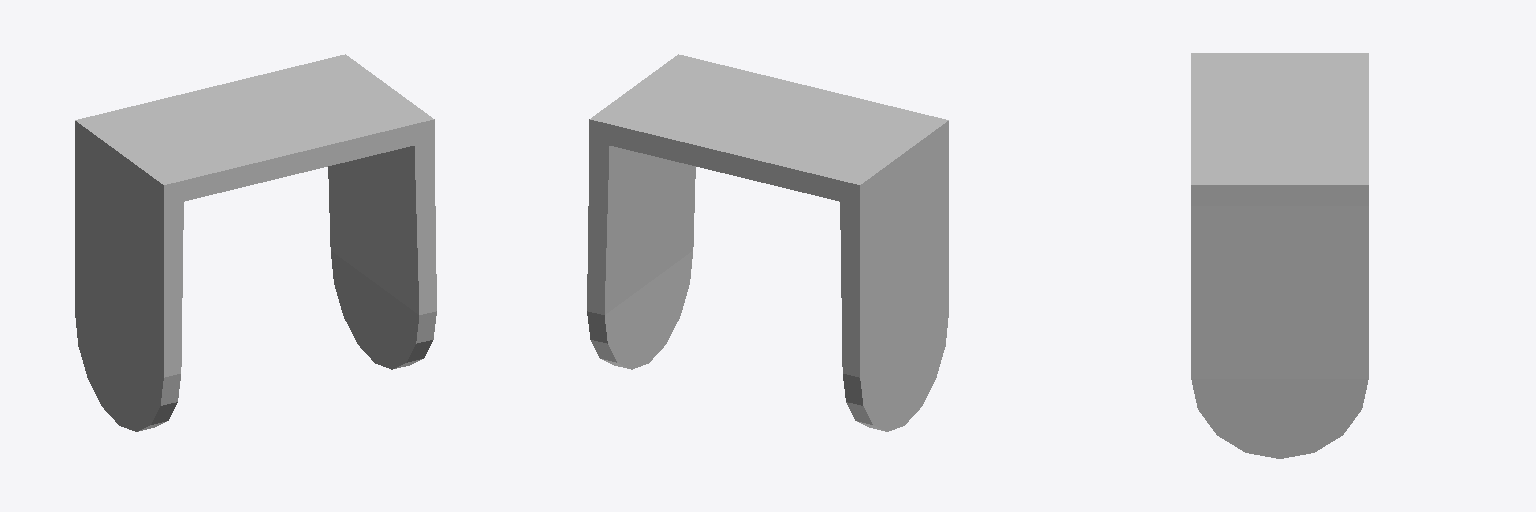
Rendered from rightArm3.obj.
3 renders of one model, left to right at view 1: azimuth 30°, elevation 25°; view 2: azimuth 150°, elevation 25°; view 3: azimuth 270°, elevation 25°, orthographic.
Parts seen in each view (by area): view 1: unnamed_object1; view 2: unnamed_object1; view 3: unnamed_object1.
Boxes of the visible parts, x1=… form: unnamed_object1: x1=75, y1=54, x2=436, y2=431; unnamed_object1: x1=587, y1=54, x2=948, y2=431; unnamed_object1: x1=1191, y1=53, x2=1368, y2=458.
Size of the model in its own units: 5.45 by 5.2 by 3.07.